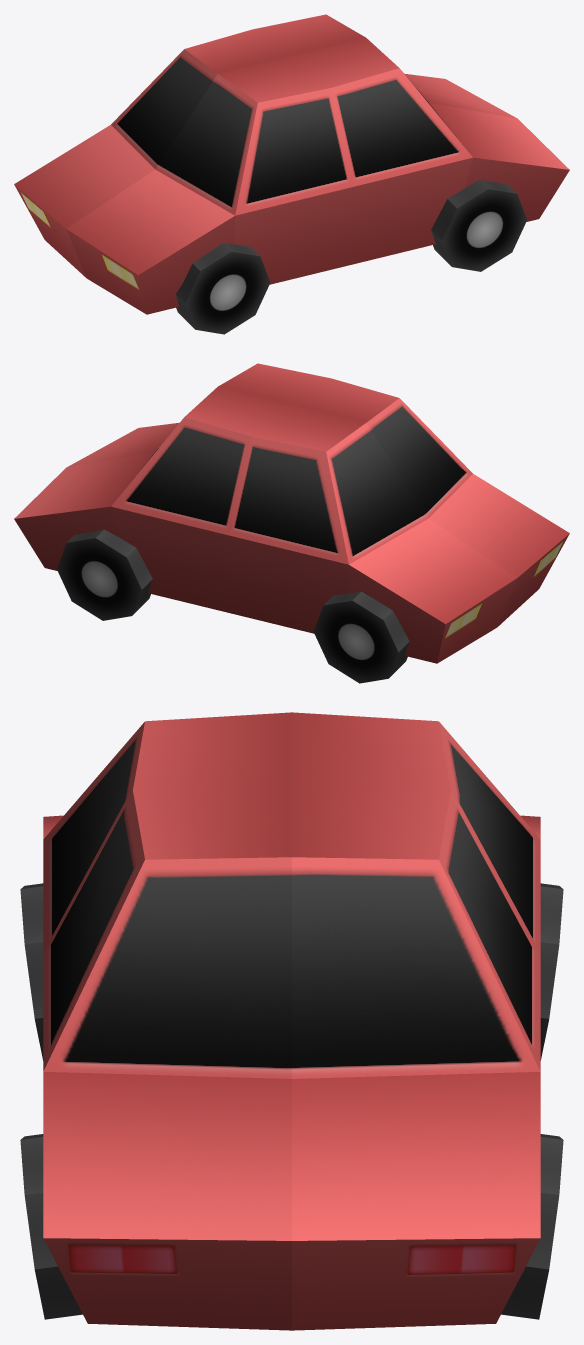
File: car0.glb
3 renders of one model, top to bottom at view 1: azimuth 30°, elevation 25°; view 2: azimuth 150°, elevation 25°; view 3: azimuth 270°, elevation 25°, orthographic. The views are drawn at different scales.
Parts seen in each view (by area): view 1: Car0; view 2: Car0; view 3: Car0.
Part boxes in pixels (<box>): Car0: <box>14,14,569,334</box>; Car0: <box>14,363,569,683</box>; Car0: <box>20,712,563,1330</box>.
Bounding box in the file's own units: 4.19 × 1.8 × 2.18.
1 material, 1 textured.
